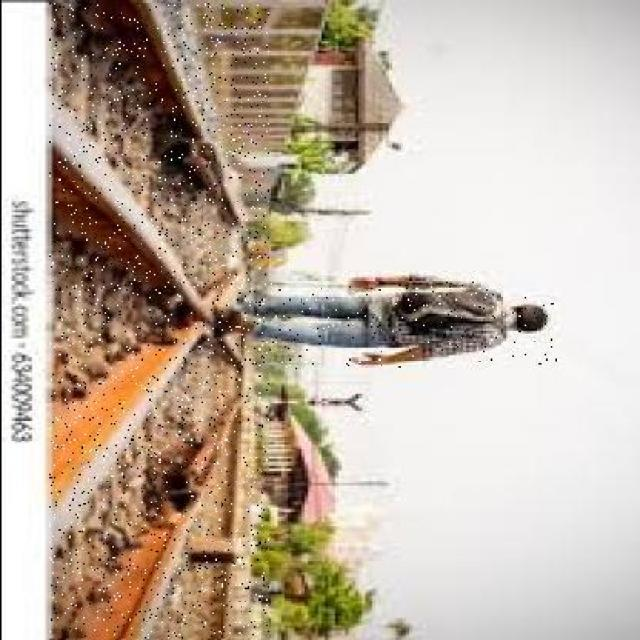rail: (49, 4, 268, 639)
